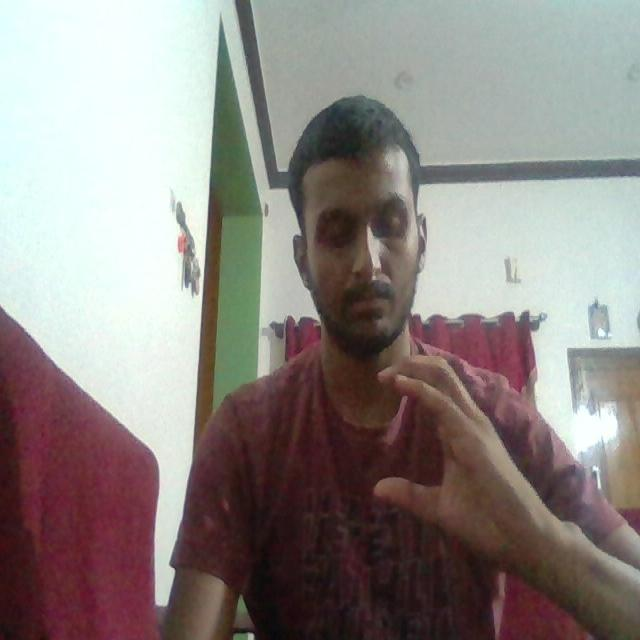no: (326, 350, 558, 586)
